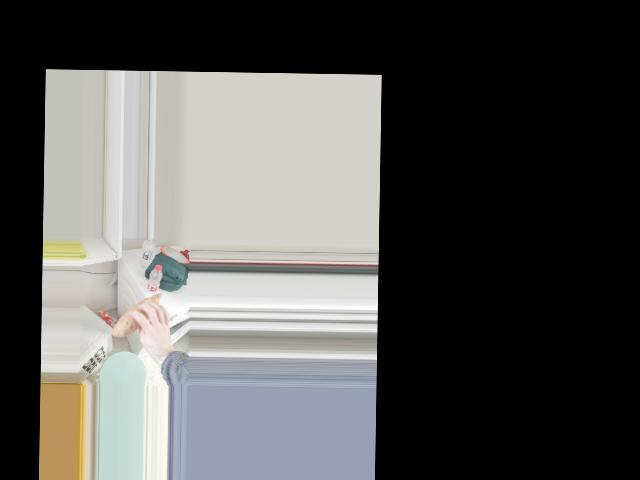sweet_potato: (115, 294, 165, 336)
